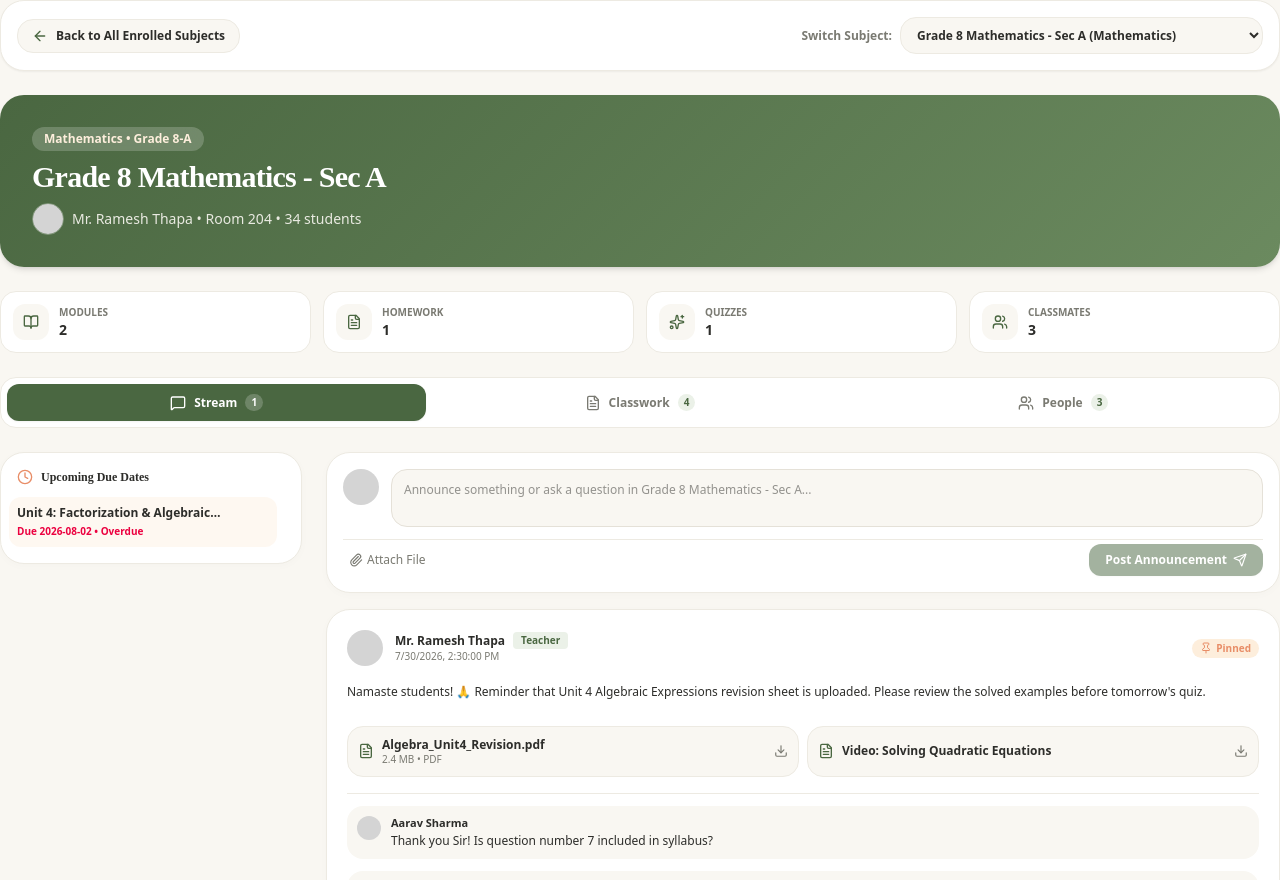
Test case: Student Interactive Functional Workflows (tests/functional/student_workflows.test.tsx) › allows student to view classroom stream and post announcements
The image size is (1280, 880).
Type "Here is my notes file for Science chapter 4" into the text box with placeholder "Announce something or ask a question".
click(827, 498); type("Here is my notes file for Science chapter 4")  # box [391,469,1263,527]
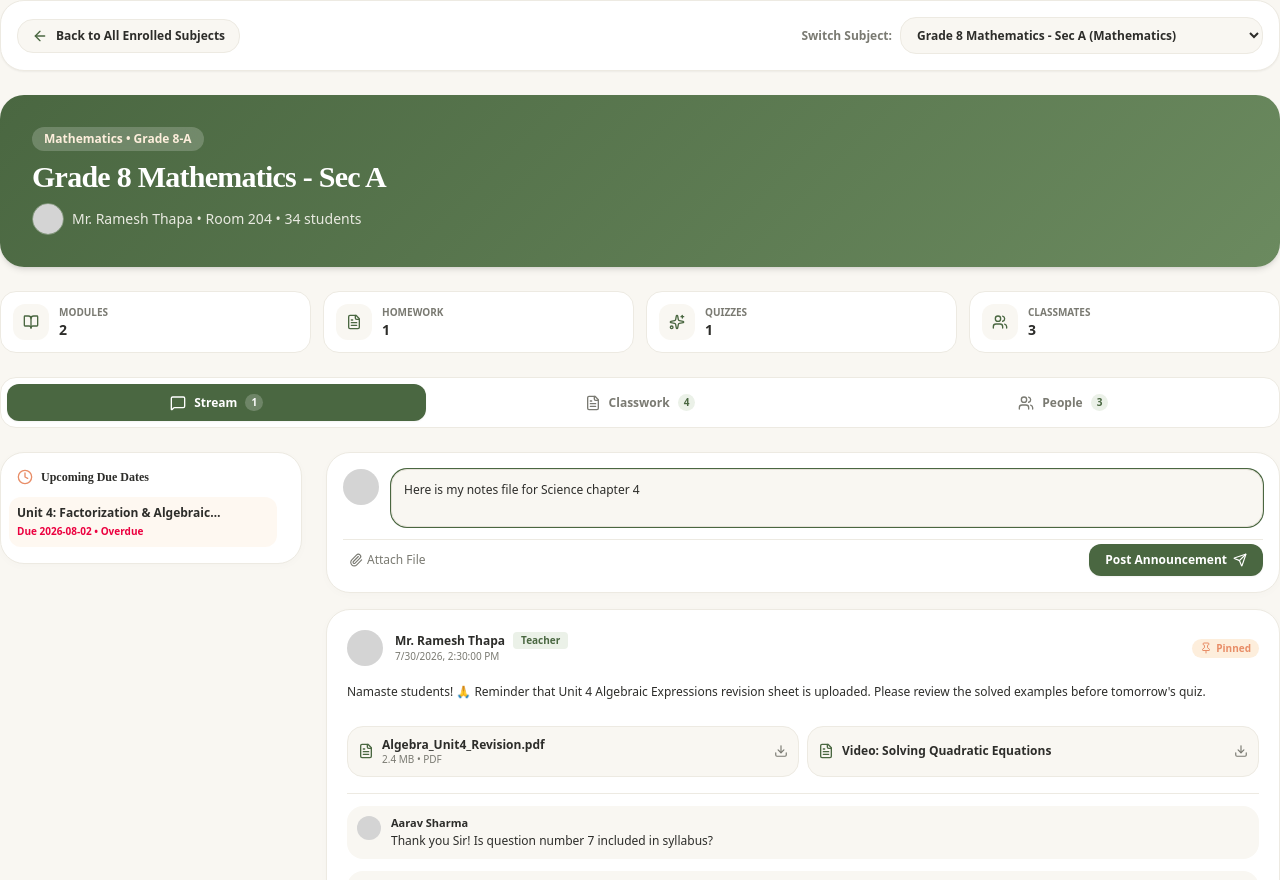
Click the button "Post Announcement".
click(1176, 560)  # box [1089,544,1263,576]
(page scrolled)
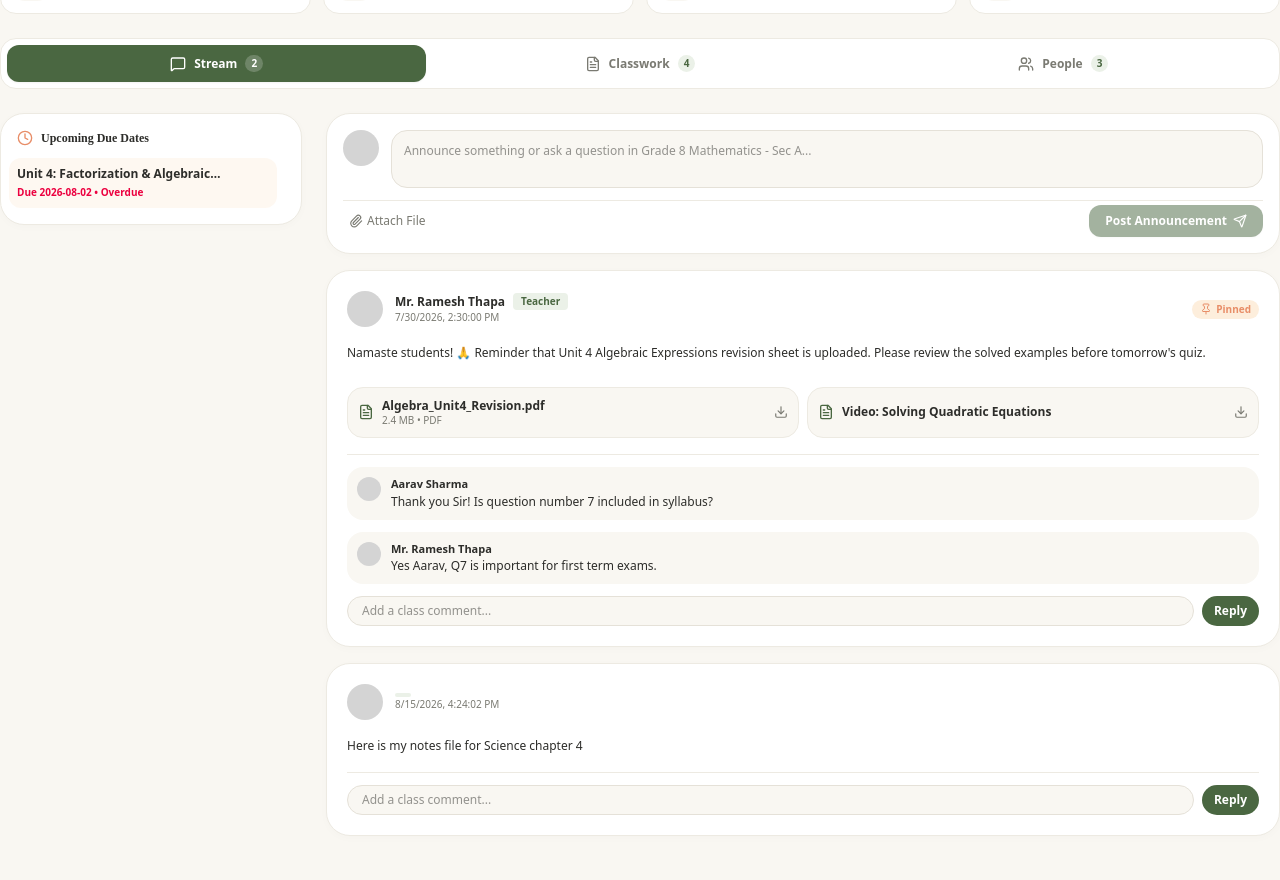
Check: the text "Here is my notes file for Science chapter 4" is shown, box [347,738,583,754]
